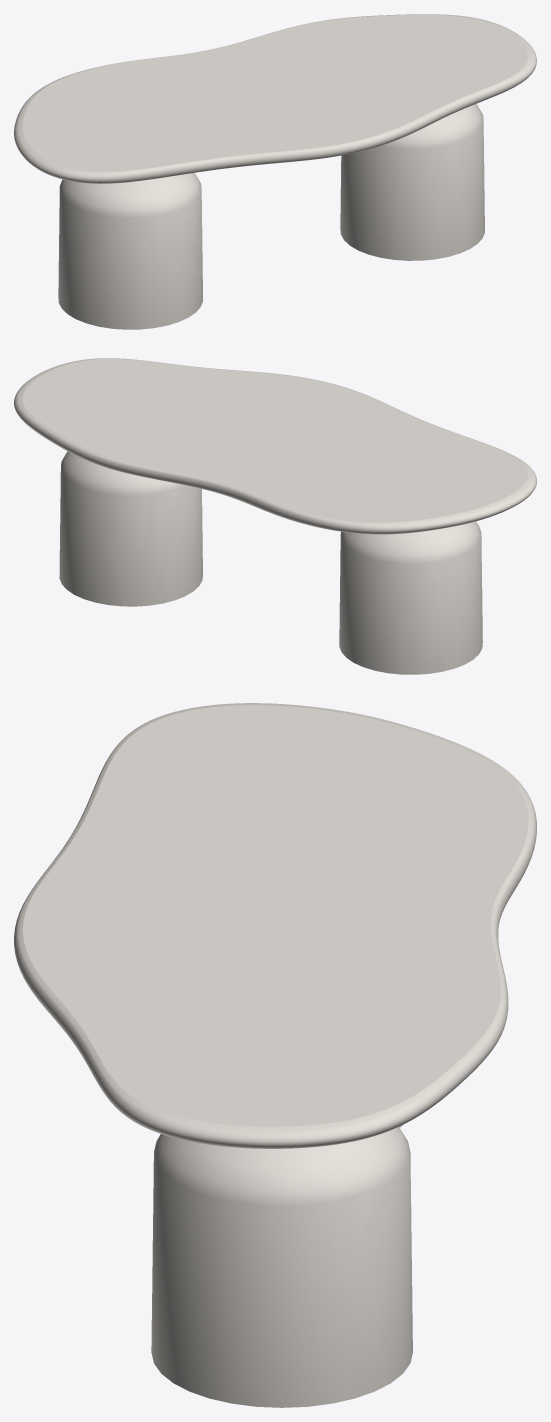
The model's file is pearlwhite_toplast_round_tornado.glb.
3 renders of one model, top to bottom at view 1: azimuth 30°, elevation 25°; view 2: azimuth 150°, elevation 25°; view 3: azimuth 270°, elevation 25°, orthographic. The views are drawn at different scales.
Visible parts, largest first — view 1: round_toplast, tornado; view 2: round_toplast, tornado; view 3: round_toplast, tornado.
Boxes of the visible parts, x1,y1,x2,y2 form: round_toplast: (14,14,536,183); tornado: (58,104,484,329); round_toplast: (14,358,536,534); tornado: (59,451,482,674); round_toplast: (14,703,536,1148); tornado: (151,1125,412,1407).
Bounding box in the file's own units: 7.5 × 2.5 × 3.8.
Materials: 1 (1 with a texture image).
